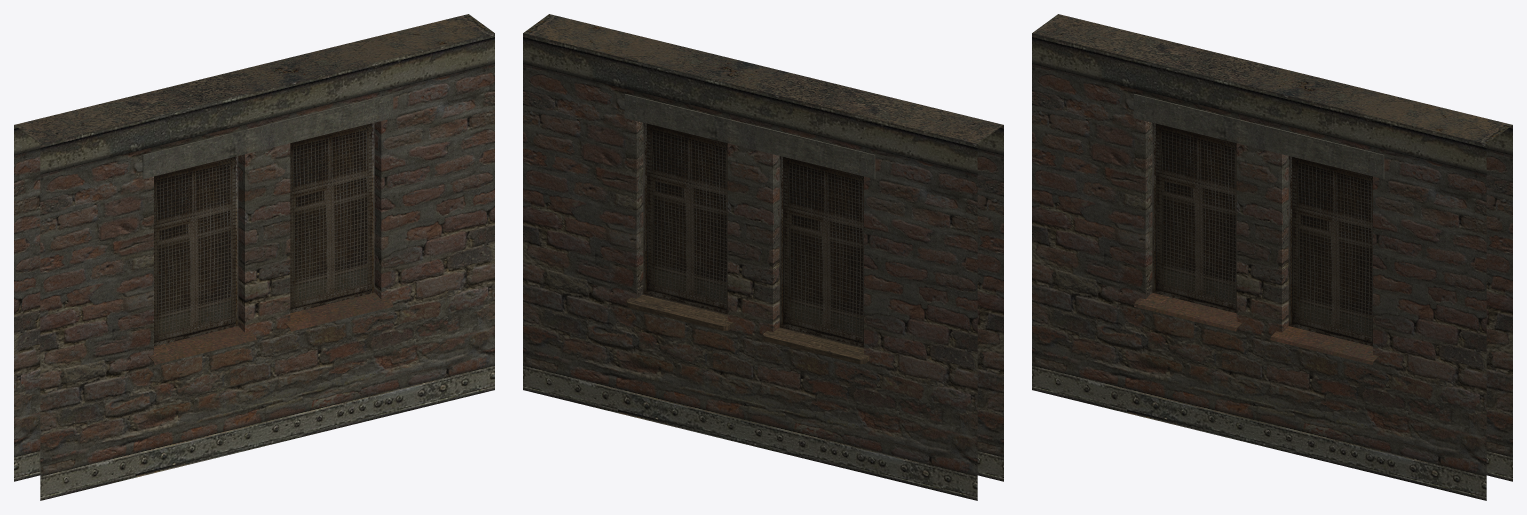
File: windows_hr_1.dae
The picture shows the model from 3 angles, left to right: view 1: azimuth 30°, elevation 25°; view 2: azimuth 150°, elevation 25°; view 3: azimuth 330°, elevation 25°; orthographic projection.
Visible parts, largest first — view 1: windows_hr_1; view 2: windows_hr_1; view 3: windows_hr_1.
Boxes of the visible parts, box(x1,y1,x2,y2) form: windows_hr_1: box(14, 14, 494, 500); windows_hr_1: box(523, 14, 1003, 500); windows_hr_1: box(1032, 14, 1512, 500).
Bounding box in the file's own units: 4 × 0.595 × 3.
6 materials, 6 textured.
